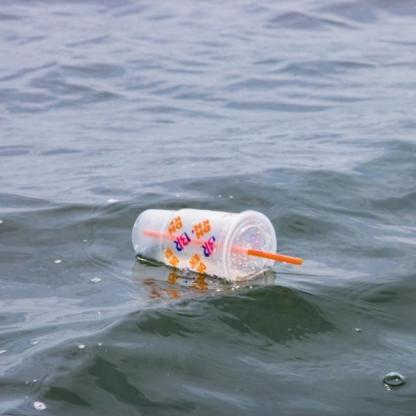plastic bottle: (132, 202, 305, 286)
